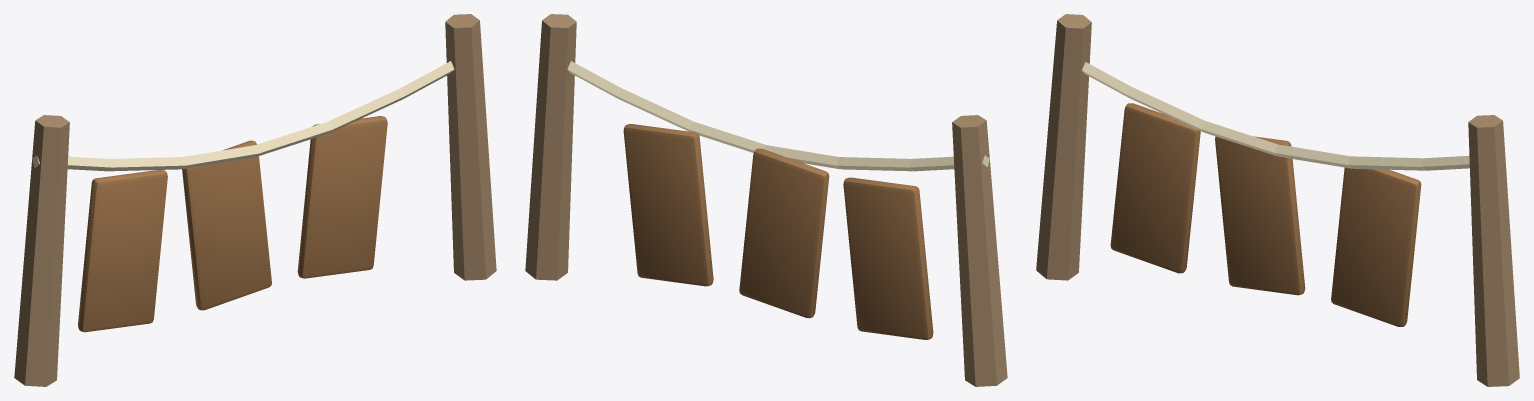
File: RopeFence.fbx
3 views of the same model, side by side, from view 1: azimuth 30°, elevation 25°; view 2: azimuth 150°, elevation 25°; view 3: azimuth 330°, elevation 25° (orthographic).
Visible parts, largest first — view 1: RopeFence; view 2: RopeFence; view 3: RopeFence.
Boxes of the visible parts, left/top/right/bottom form: RopeFence: left=14, top=14, right=496, bottom=386; RopeFence: left=525, top=14, right=1007, bottom=386; RopeFence: left=1036, top=14, right=1519, bottom=386.
Size of the model in its own units: 2.04 by 1.06 by 0.16.
